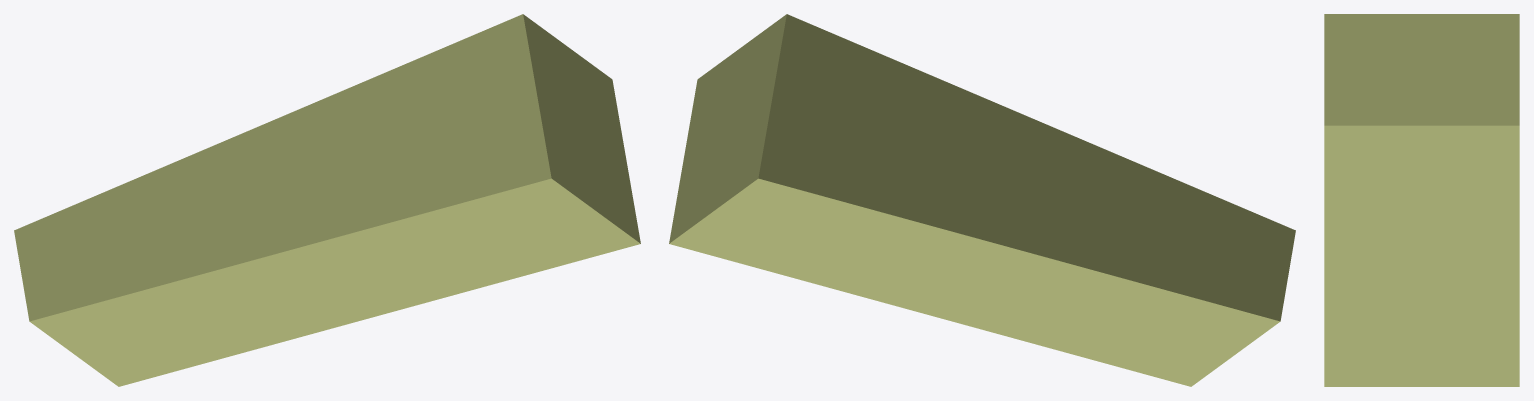
3 views of the same model, side by side, from view 1: azimuth 30°, elevation 25°; view 2: azimuth 150°, elevation 25°; view 3: azimuth 270°, elevation 25° (orthographic). The views are drawn at different scales.
Visible parts, largest first — view 1: 0_2_1_0_0_0_3_3_3; view 2: 0_2_1_0_0_0_3_3_3; view 3: 0_2_1_0_0_0_3_3_3.
Boxes of the visible parts, bbox=[...] form: 0_2_1_0_0_0_3_3_3: bbox=[14, 14, 640, 386]; 0_2_1_0_0_0_3_3_3: bbox=[669, 14, 1295, 386]; 0_2_1_0_0_0_3_3_3: bbox=[1324, 14, 1519, 386].
Bounding box in the file's own units: 31.25 × 10.39 × 9.
